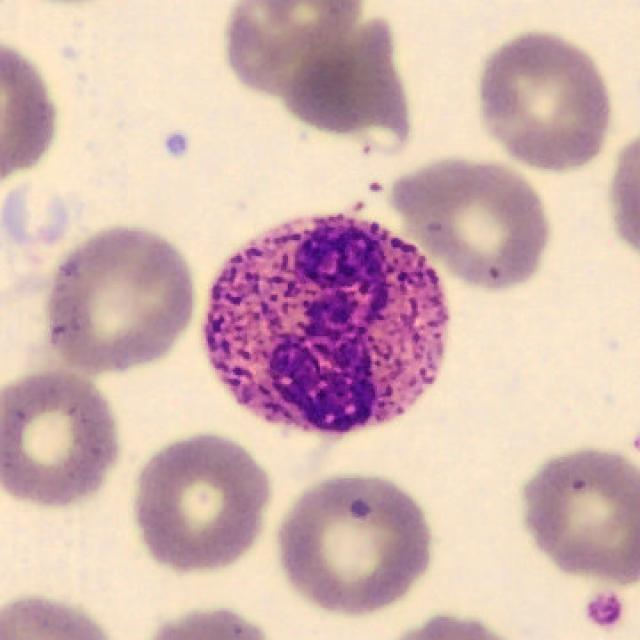Neutrofilo segmentado: (203, 215, 450, 436)
